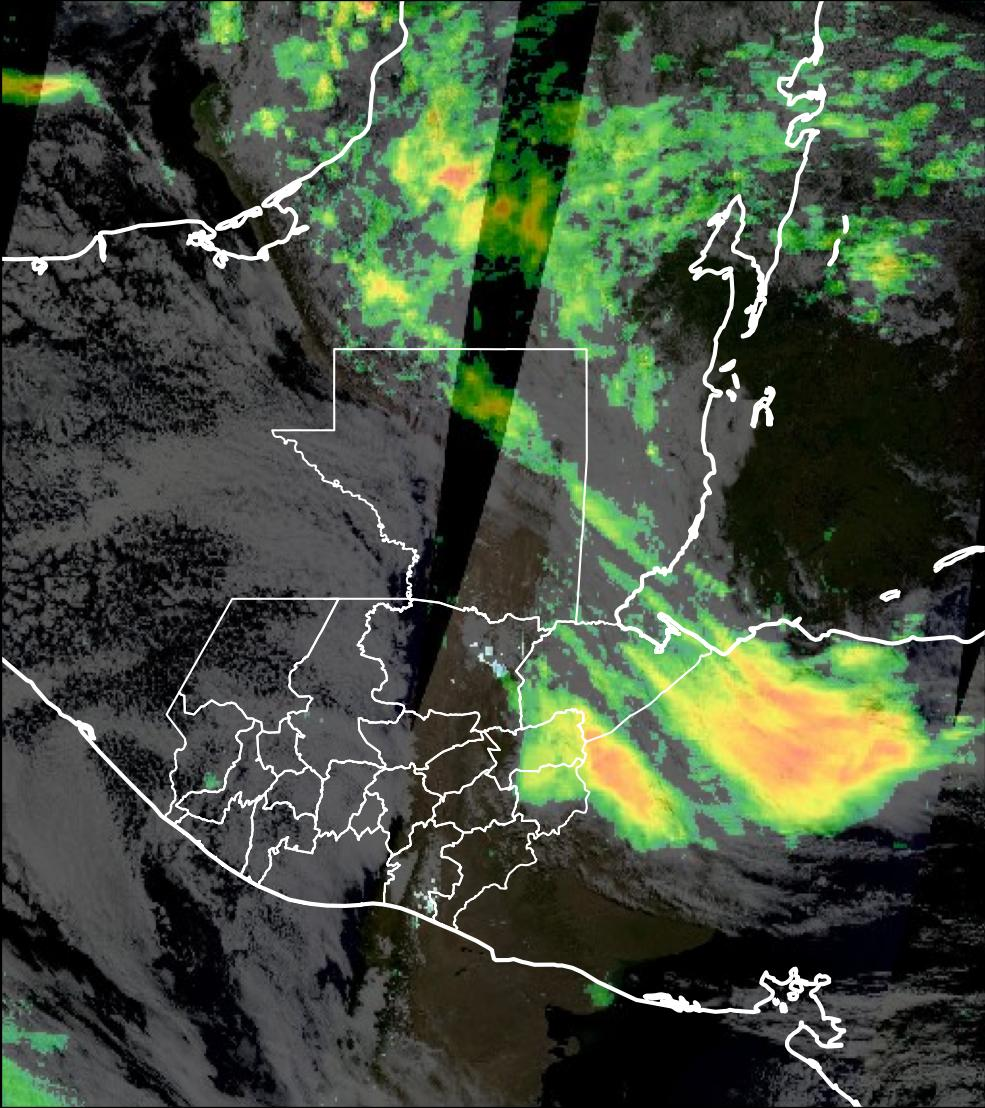precipitacion: (711, 662, 913, 823)
